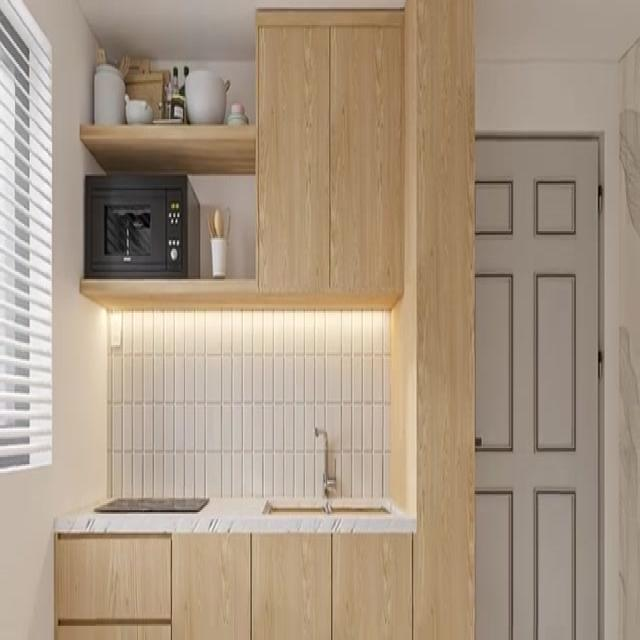door: (473, 132, 600, 638)
obstacle: (255, 7, 405, 309)
